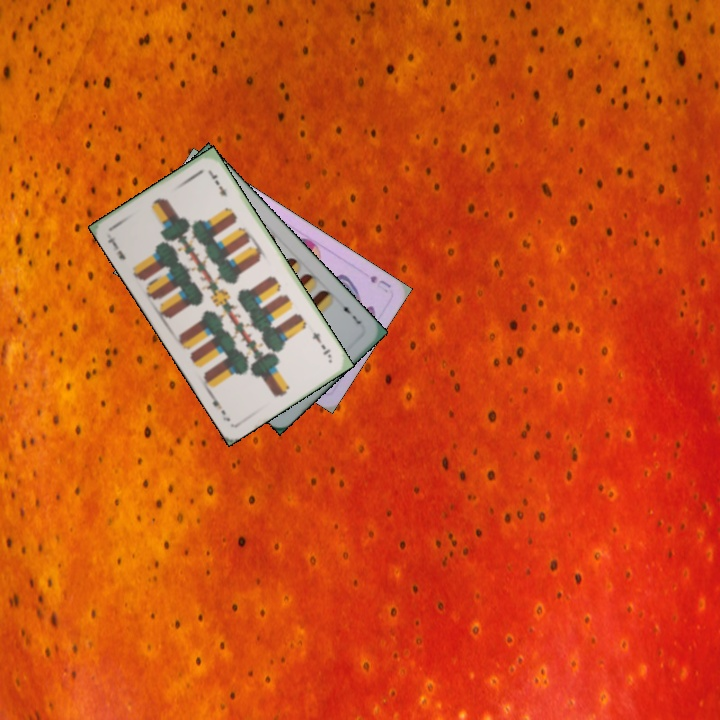E7: (308, 328, 334, 361), (337, 298, 364, 327), (104, 233, 128, 262)
SU: (366, 271, 394, 295)
